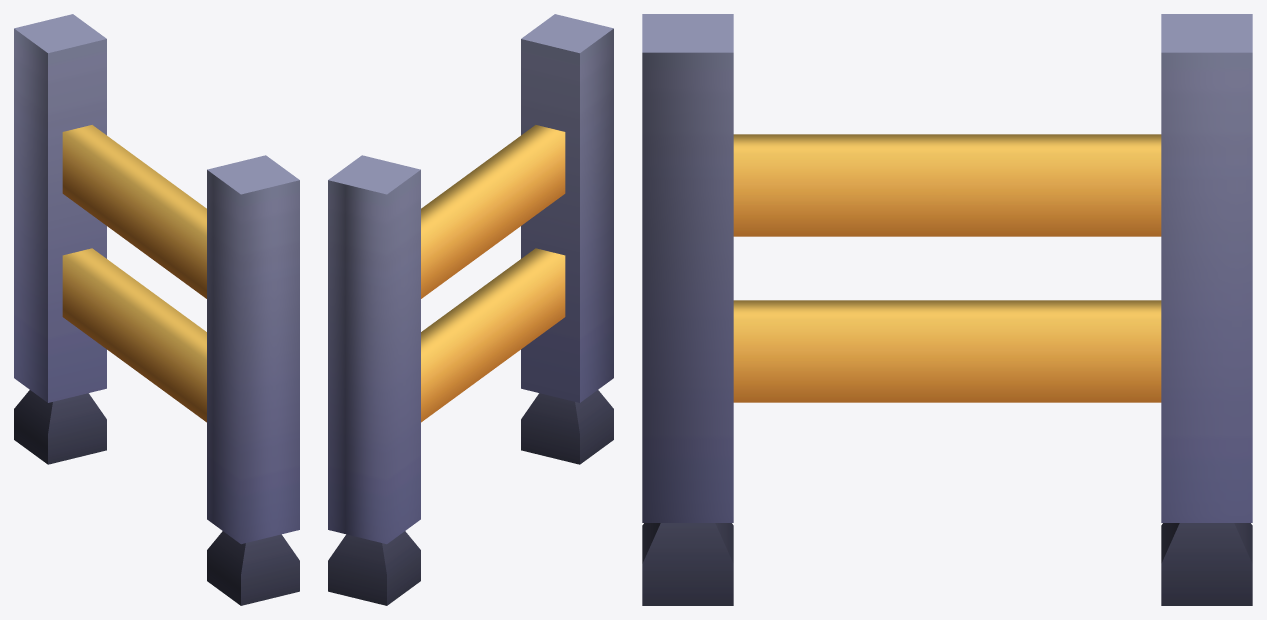
Rendered from kenney-conveyor-structure-yellow-medium.glb.
3 renders of one model, left to right at view 1: azimuth 30°, elevation 25°; view 2: azimuth 150°, elevation 25°; view 3: azimuth 270°, elevation 25°, orthographic. The views are drawn at different scales.
Parts seen in each view (by area): view 1: structure-yellow-medium; view 2: structure-yellow-medium; view 3: structure-yellow-medium.
Boxes of the visible parts, x1,y1,x2,y2 form: structure-yellow-medium: (14, 14, 299, 605); structure-yellow-medium: (328, 14, 613, 605); structure-yellow-medium: (642, 14, 1252, 605).
Bounding box in the file's own units: 0.15 × 1 × 1.
1 material, 1 textured.
